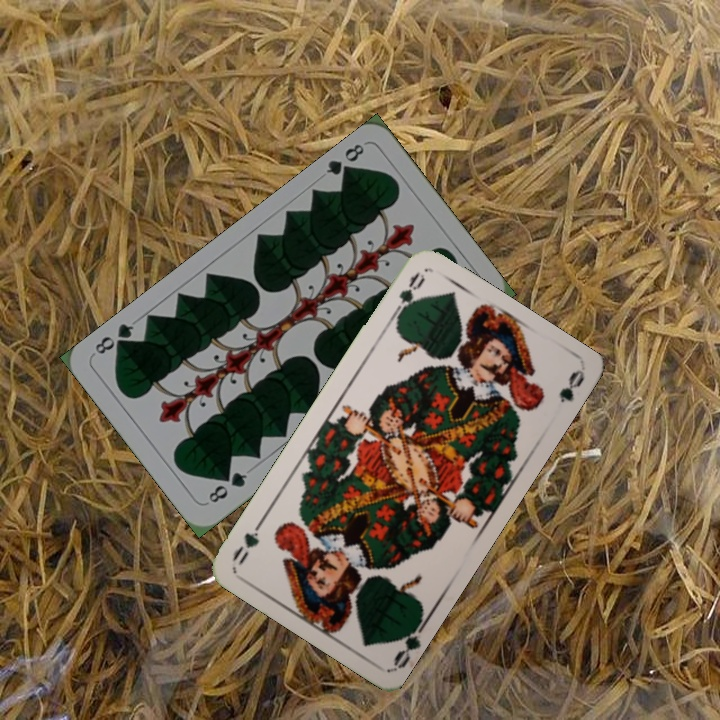G8: (321, 139, 367, 182), (204, 467, 250, 506)
GO: (387, 267, 428, 324), (389, 614, 430, 670)
